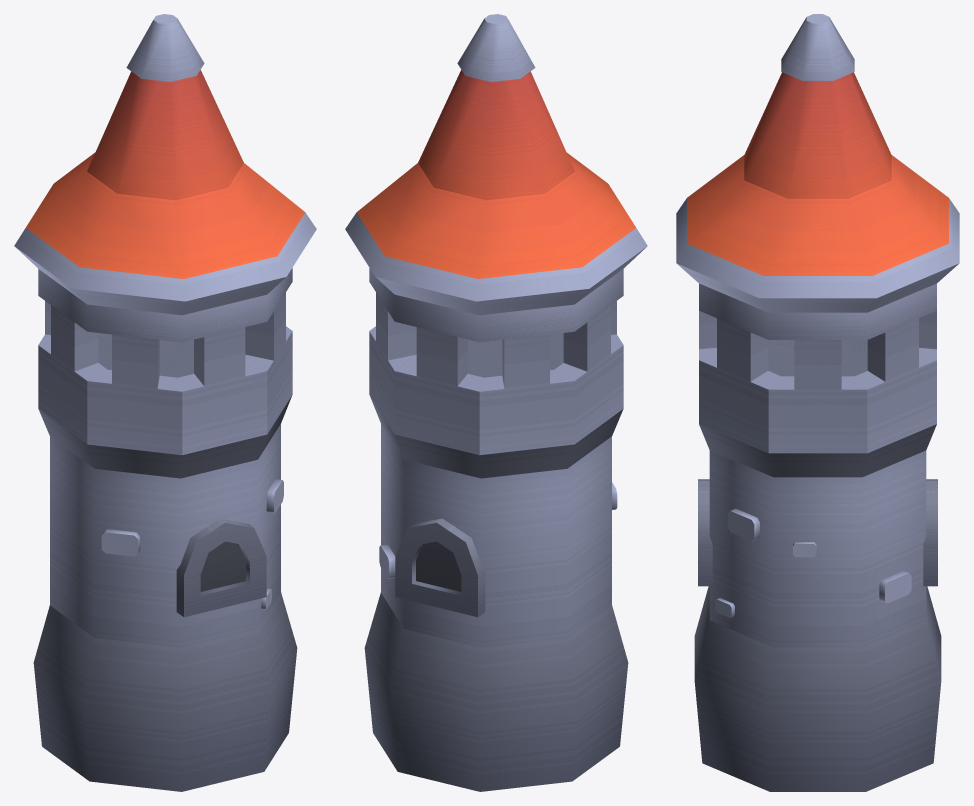
File: tower-complete-large.002_lev2.glb
3 renders of one model, left to right at view 1: azimuth 30°, elevation 25°; view 2: azimuth 150°, elevation 25°; view 3: azimuth 270°, elevation 25°, orthographic.
Parts seen in each view (by area): view 1: tower-complete-large.002_lev2; view 2: tower-complete-large.002_lev2; view 3: tower-complete-large.002_lev2.
Part boxes in pixels (x1=…): tower-complete-large.002_lev2: x1=14, y1=14, x2=316, y2=791; tower-complete-large.002_lev2: x1=345, y1=14, x2=647, y2=791; tower-complete-large.002_lev2: x1=676, y1=14, x2=959, y2=791.
Bounding box in the file's own units: 3.41 × 9.6 × 3.41.
1 material, 1 textured.
